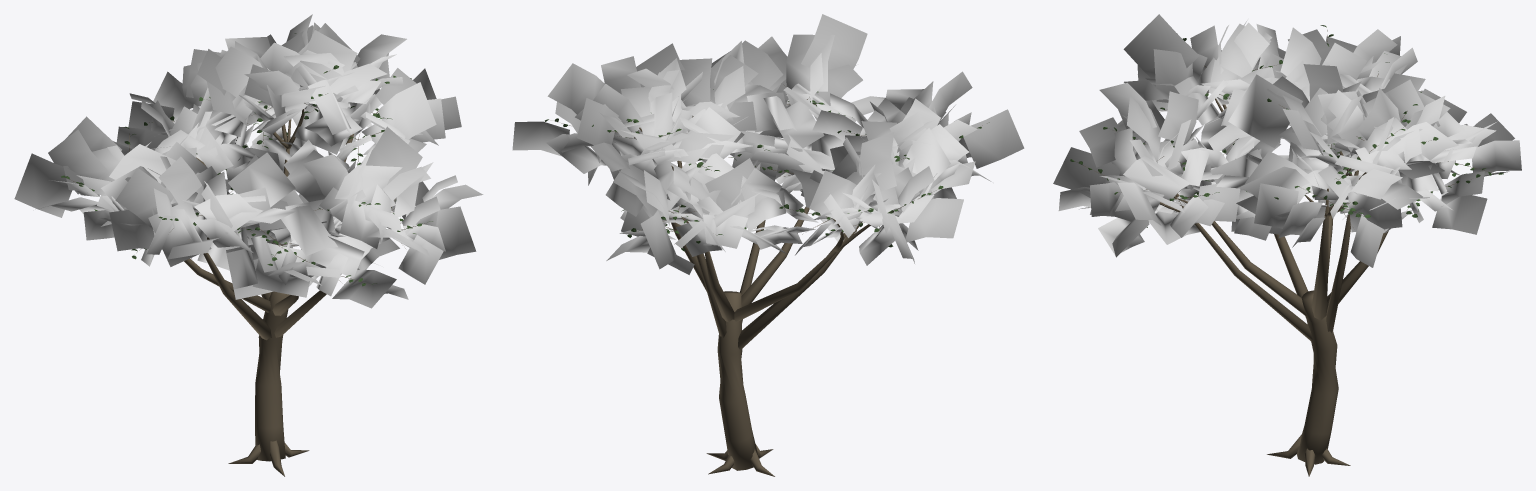
File: V7_CheneVert_0_Niveau0.fbx
3 views of the same model, side by side, from view 1: azimuth 30°, elevation 25°; view 2: azimuth 150°, elevation 25°; view 3: azimuth 270°, elevation 25° (orthographic).
Parts seen in each view (by area): view 1: V7_CheneVert_0; view 2: V7_CheneVert_0; view 3: V7_CheneVert_0.
Part boxes in pixels (x1=…): V7_CheneVert_0: x1=14, y1=14, x2=483, y2=476; V7_CheneVert_0: x1=512, y1=14, x2=1024, y2=476; V7_CheneVert_0: x1=1053, y1=14, x2=1521, y2=476.
Size of the model in its own units: 692 by 617 by 654.
